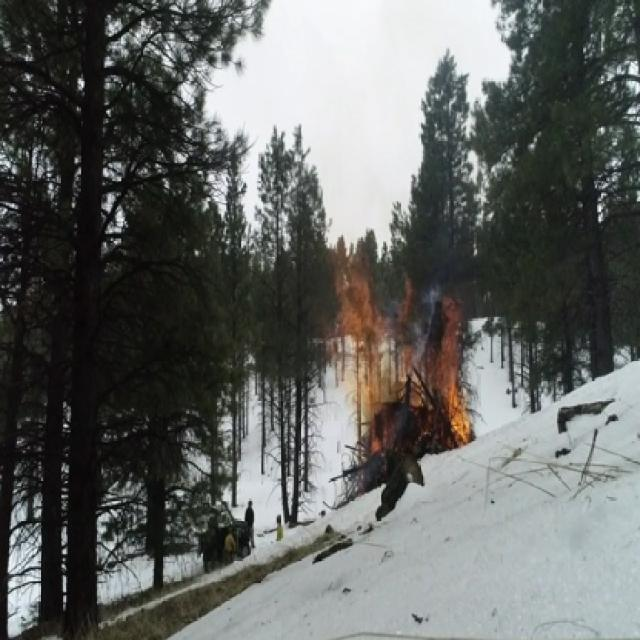Fire: (385, 267, 476, 461), (338, 205, 380, 476)
